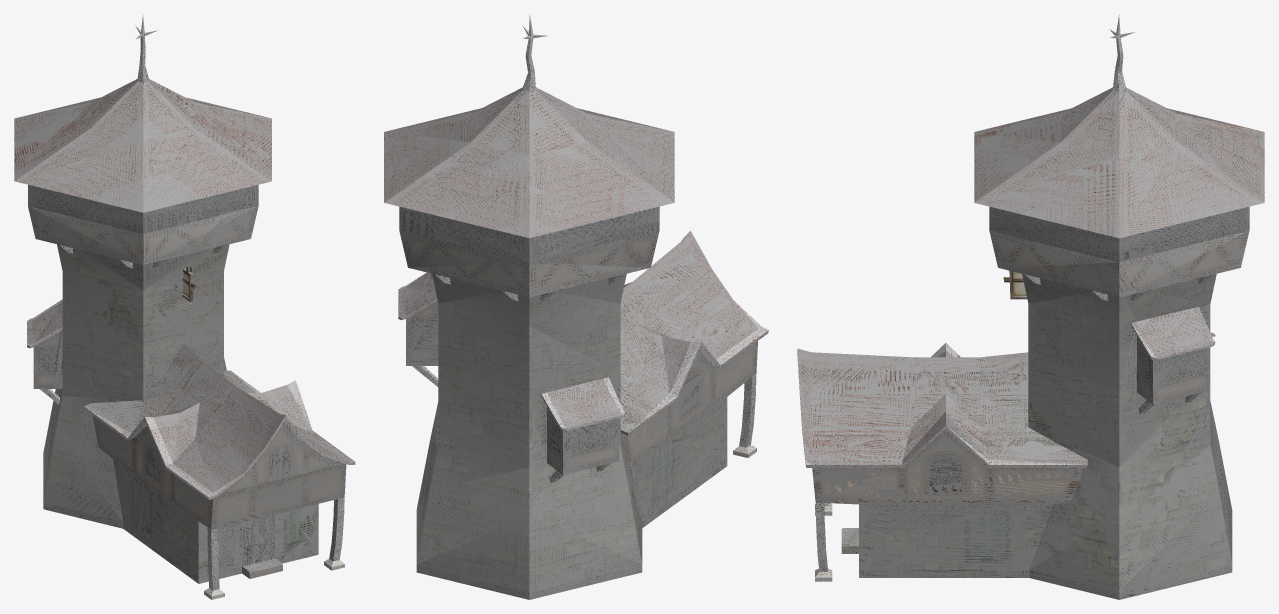
3 views of the same model, side by side, from view 1: azimuth 30°, elevation 25°; view 2: azimuth 150°, elevation 25°; view 3: azimuth 270°, elevation 25° (orthographic). The views are drawn at different scales.
Parts seen in each view (by area): view 1: Material2.002, Material2.003, Material3; view 2: Material2.002, Material2.003, Material3; view 3: Material2.002, Material2.003, Material3.
Boxes of the visible parts, <box> form: Material2.002: <box>14,79,352,583</box>; Material2.003: <box>14,15,354,599</box>; Material3: <box>27,14,355,599</box>; Material2.002: <box>384,87,758,599</box>; Material2.003: <box>384,32,768,599</box>; Material3: <box>398,14,768,483</box>; Material2.002: <box>797,87,1264,599</box>; Material2.003: <box>797,23,1264,599</box>; Material3: <box>797,15,1249,581</box>.
Size of the model in its own units: 3044 by 5315 by 4241.
